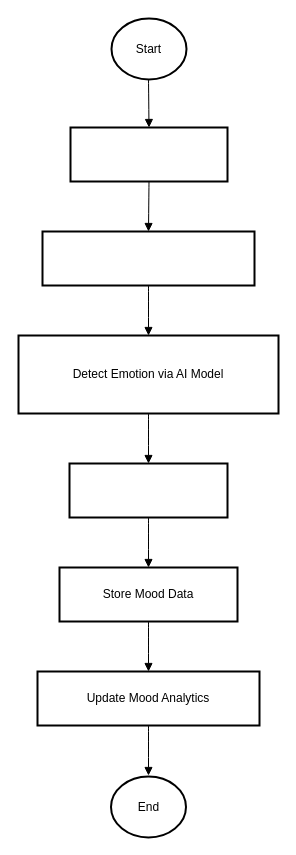
Some shapes in this 296 by 855 pixel diagram are drawn without their labels. The box of each missing label's shape, as (x1, y1, x2, y2) in pixels:
Capture Facial Image: (41, 230, 255, 286)
Identify Mood: (68, 462, 228, 518)
Open Camera: (69, 126, 228, 182)
